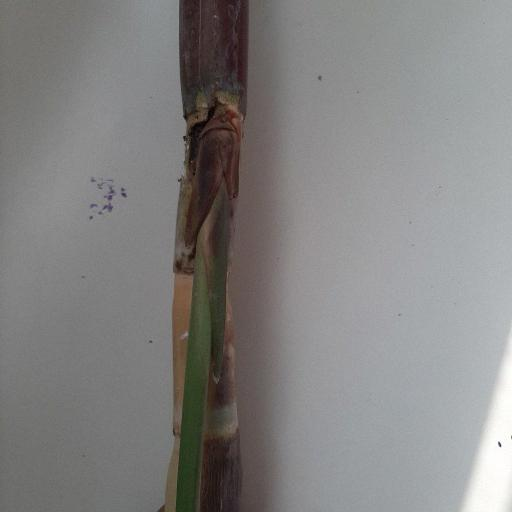Sprouted_Bud: (210, 115, 239, 192)
